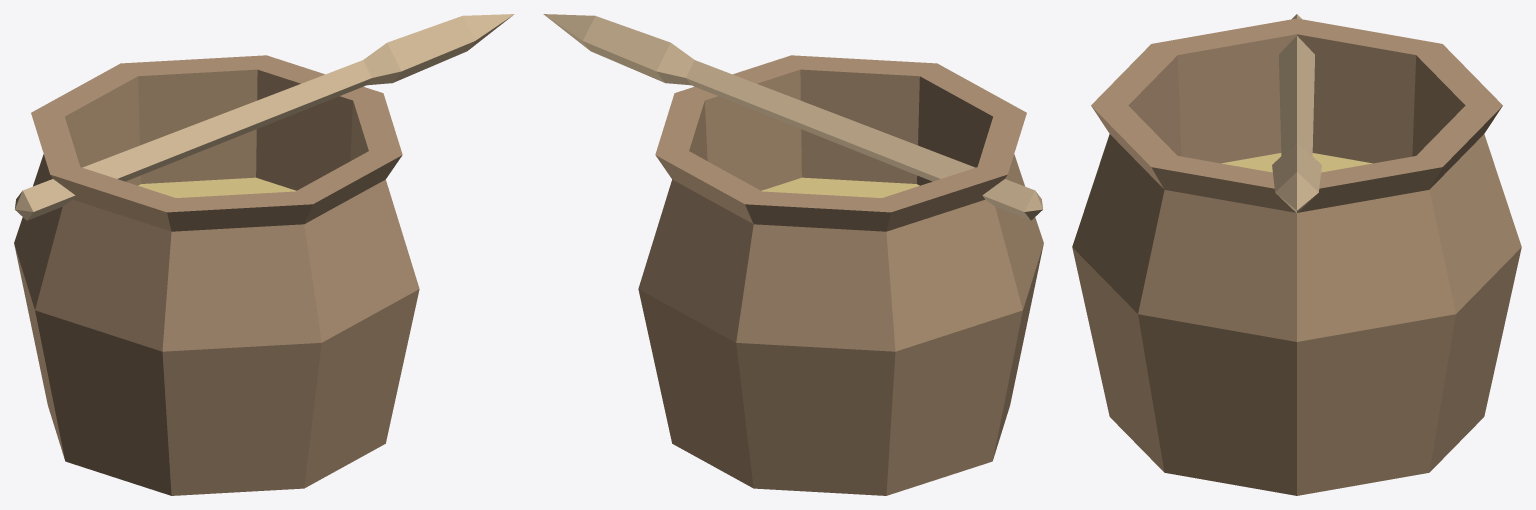
Rendered from prop-gold-size-pot.fbx.
3 renders of one model, left to right at view 1: azimuth 30°, elevation 25°; view 2: azimuth 150°, elevation 25°; view 3: azimuth 270°, elevation 25°, orthographic. The views are drawn at different scales.
Parts seen in each view (by area): view 1: prop-gold-size-pot; view 2: prop-gold-size-pot; view 3: prop-gold-size-pot.
Boxes of the visible parts, x1,y1,x2,y2 form: prop-gold-size-pot: (14,14,514,495); prop-gold-size-pot: (543,14,1043,495); prop-gold-size-pot: (1072,14,1521,495).
Size of the model in its own units: 9.9 by 6.6 by 7.2.
